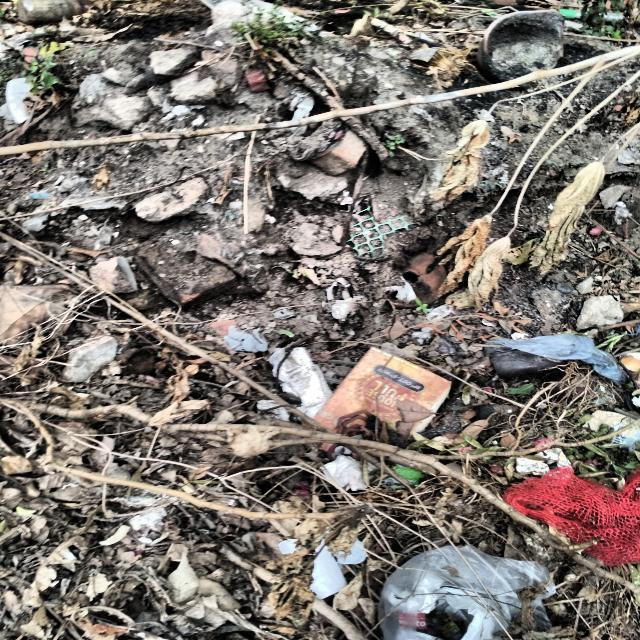anorganik: (380, 548, 551, 640), (504, 466, 640, 568), (487, 337, 627, 385)
organik: (314, 347, 457, 435)
